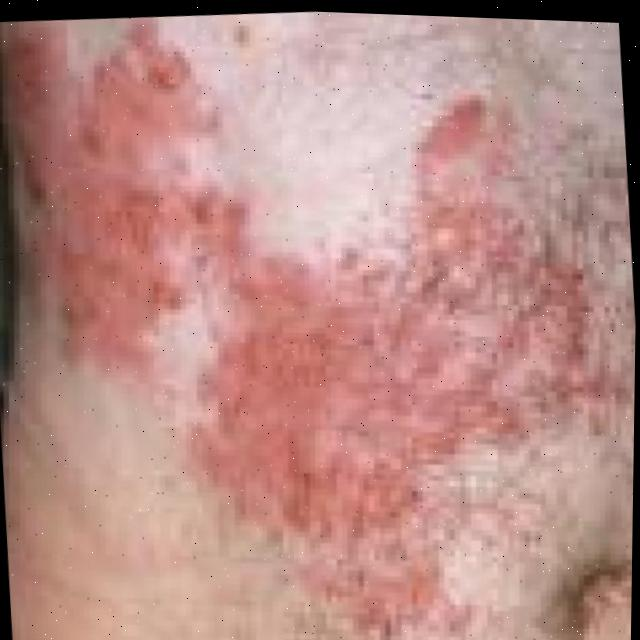Shingles: (0, 15, 574, 634)
